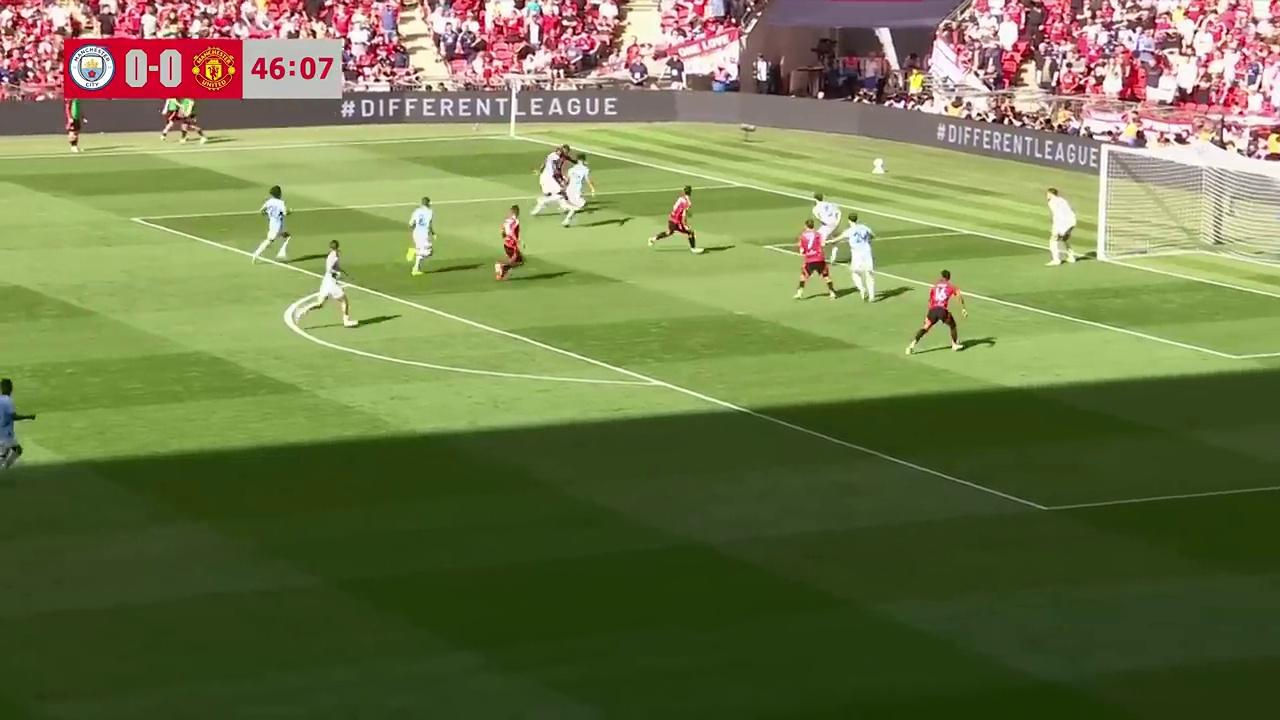player: (905, 269, 966, 354), (305, 239, 350, 331), (792, 222, 837, 301), (648, 187, 697, 252), (253, 185, 291, 263), (842, 216, 876, 303), (0, 378, 30, 472), (1045, 187, 1077, 266), (494, 205, 526, 281), (406, 197, 436, 275), (532, 154, 567, 214), (810, 193, 841, 254), (565, 156, 596, 207), (552, 141, 575, 189)
